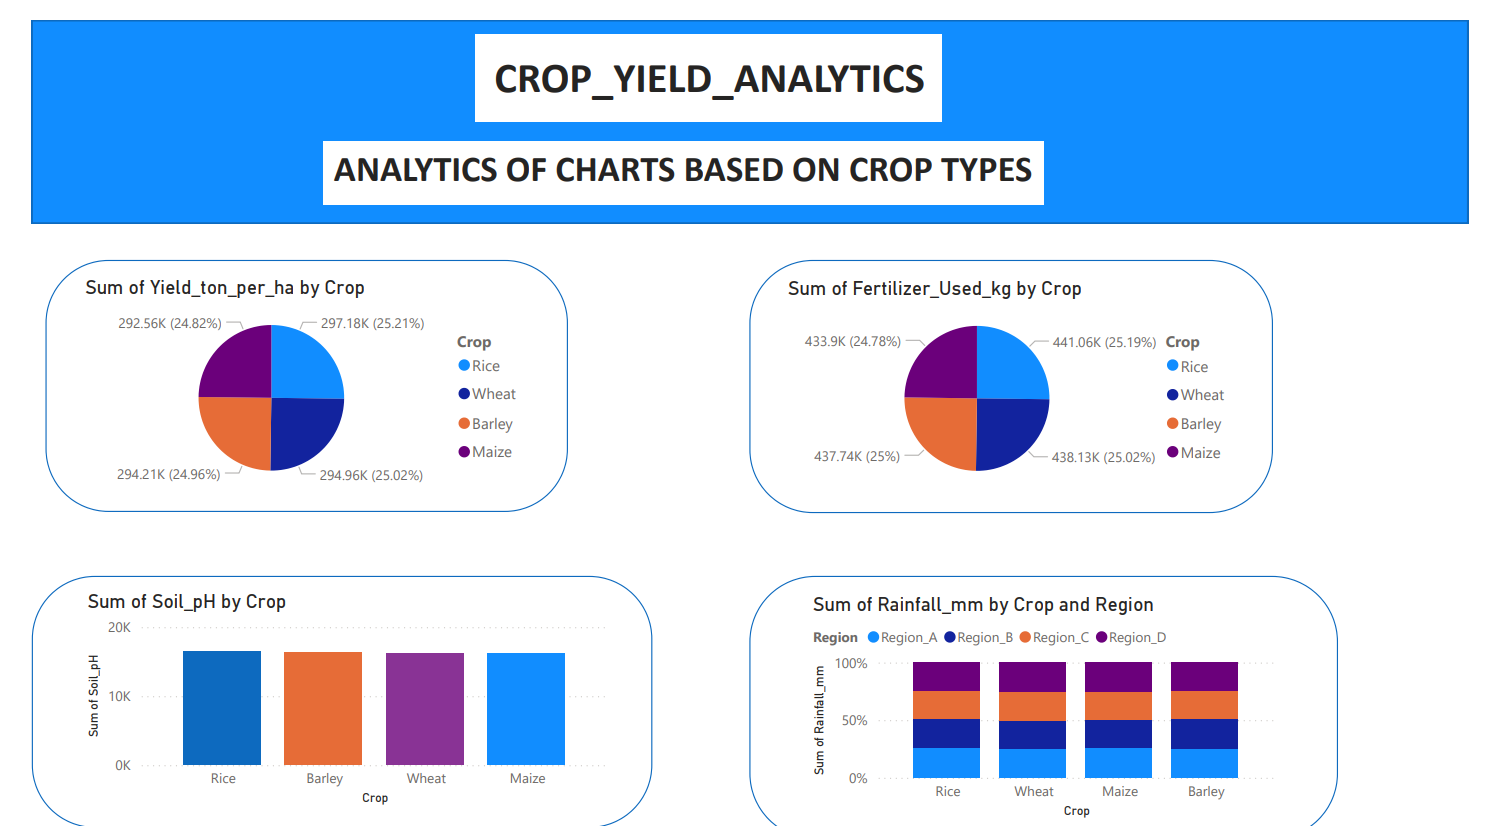

Layout of this report page (visuals, bound fields, positions):
{"tool":"powerbi","page":{"name":"Page 1","canvas":[1280,720],"ordinal":0},"visuals":[{"type":"shape","box":[9.6,0,1259.7,178.4],"z":0},{"type":"textbox","box":[399.3,12.3,408.9,76.8],"z":1000},{"type":"shape","box":[22,209.9,458.3,220.9],"z":2000},{"type":"pieChart","fields":{"Category":["crop_yield_dataset.Crop"],"Y":["Sum(crop_yield_dataset.Yield_ton_per_ha)"]},"box":[52.1,223.7,396.6,194.9],"z":3000},{"type":"shape","box":[639.5,209.9,458.3,222.3],"z":4000},{"type":"pieChart","fields":{"Category":["crop_yield_dataset.Crop"],"Y":["Sum(crop_yield_dataset.Fertilizer_Used_kg)"]},"box":[668.3,225,402.1,193.5],"z":5000},{"type":"columnChart","fields":{"Category":["crop_yield_dataset.Crop"],"Y":["Sum(crop_yield_dataset.Soil_pH)"]},"box":[53.5,499.5,467.9,193.5],"z":6000},{"type":"shape","box":[9.6,487.1,544.8,220.9],"z":7000},{"type":"shape","box":[639.5,487.1,516,230.5],"z":8000},{"type":"hundredPercentStackedColumnChart","fields":{"Category":["crop_yield_dataset.Crop"],"Y":["Sum(crop_yield_dataset.Rainfall_mm)"],"Series":["crop_yield_dataset.Region"]},"box":[690.2,502.2,414.4,201.7],"z":9000},{"type":"textbox","box":[264.8,105.7,632.6,56.3],"z":10000}]}

Visuals, with their boxes in screenshot pixels (x1, y1, x2, y2), scaled from the page's 1280x720 canvas onto the 1501x826 screenshot:
shape: 11 0 1488 205
textbox: 468 14 948 102
shape: 26 241 563 494
pieChart - crop_yield_dataset.Crop x Sum(crop_yield_dataset.Yield_ton_per_ha): 61 257 526 480
shape: 750 241 1287 496
pieChart - crop_yield_dataset.Crop x Sum(crop_yield_dataset.Fertilizer_Used_kg): 784 258 1255 480
columnChart - crop_yield_dataset.Crop x Sum(crop_yield_dataset.Soil_pH): 63 573 611 795
shape: 11 559 650 812
shape: 750 559 1355 823
hundredPercentStackedColumnChart - crop_yield_dataset.Crop x Sum(crop_yield_dataset.Rainfall_mm): 809 576 1295 808
textbox: 311 121 1052 186
